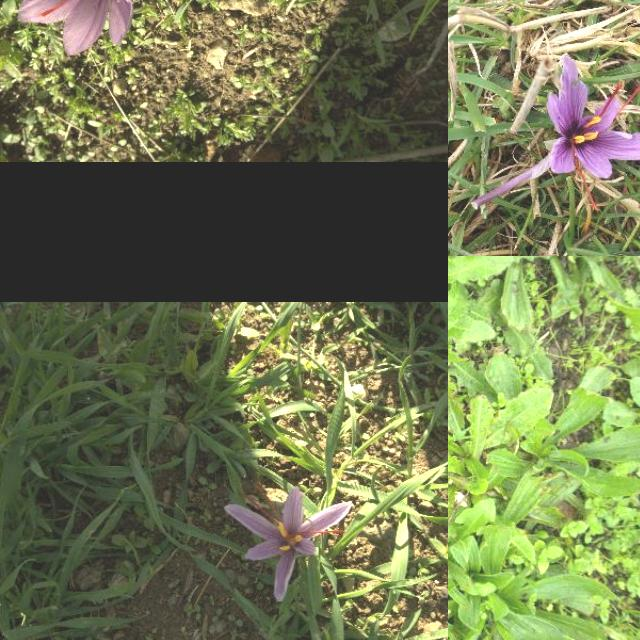flower: (223, 486, 351, 604), (546, 54, 640, 212), (16, 0, 133, 57)
